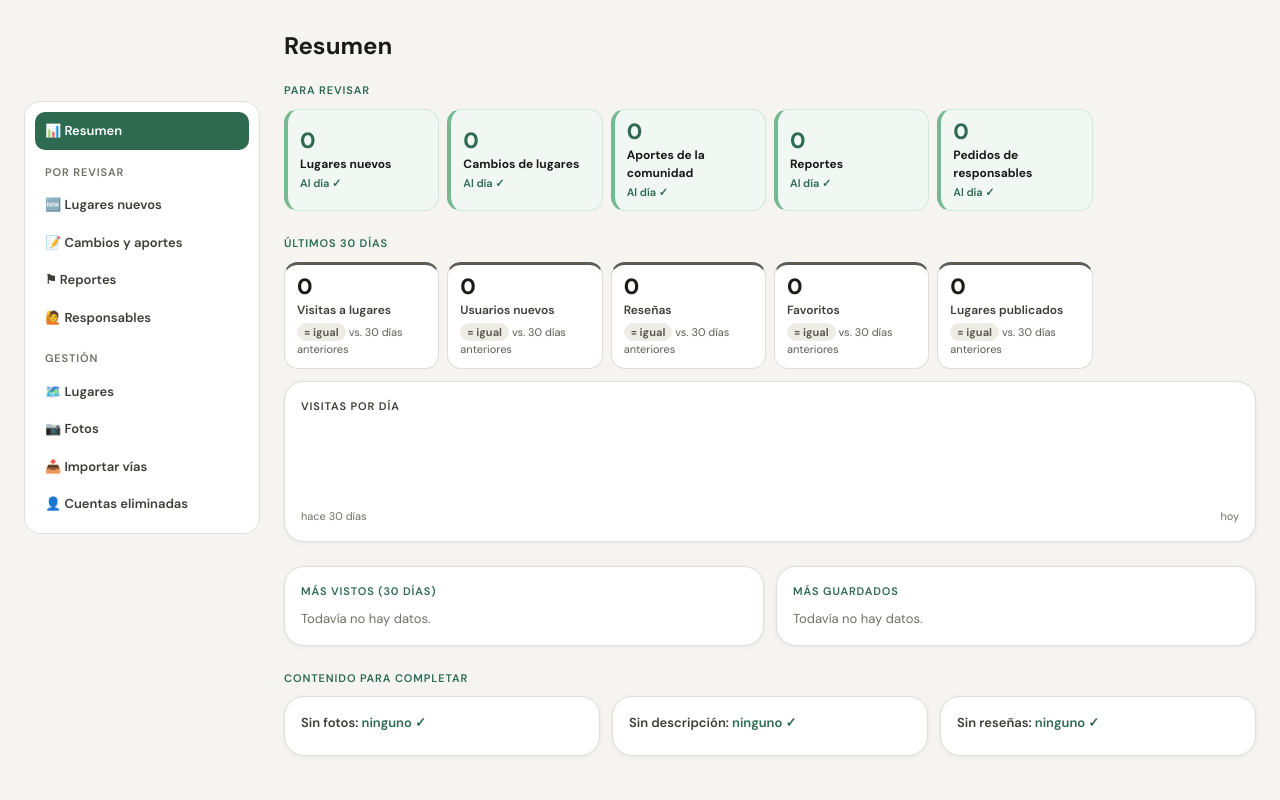
Test: Panel de admin: si una acción falla, se dice (antes la pantalla mostraba el cambio igual) › aprobar falla: aviso y el lugar sigue pendiente
Click the button "🆕 Lugares nuevos": (142, 205) x1=35 y1=186 x2=249 y2=224
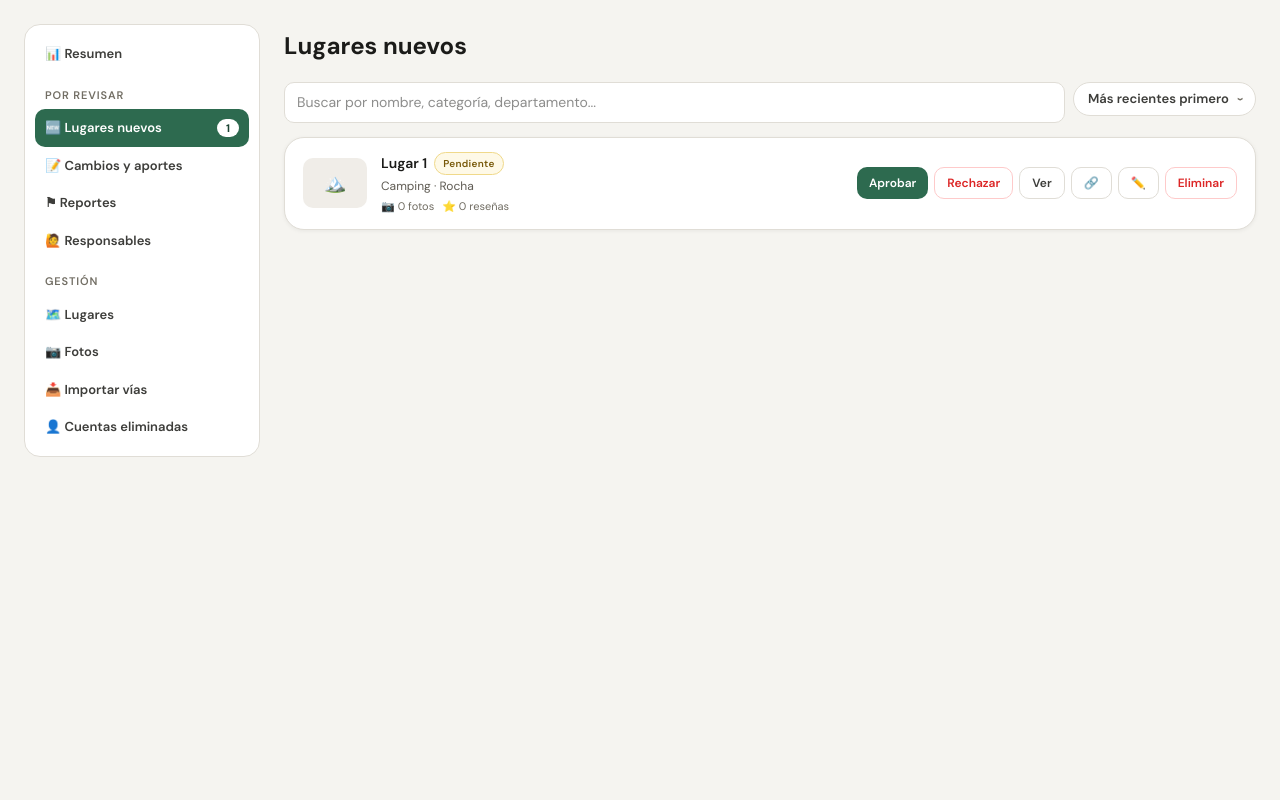
Click the button "Aprobar": (893, 183) x1=857 y1=167 x2=928 y2=199
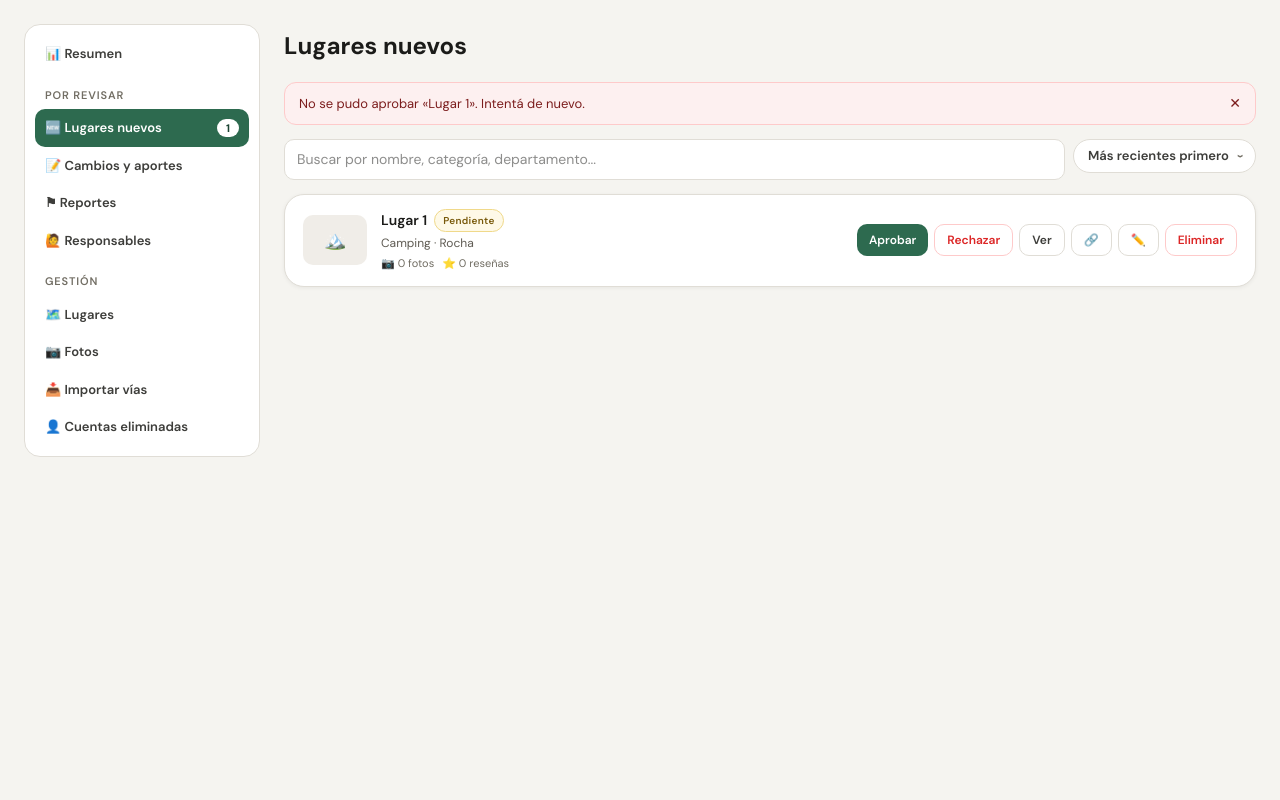
Expected: the text "Pendiente" is shown, x1=434 y1=209 x2=504 y2=232
Expected: the message shows "No se pudo aprobar «Lugar 1»", x1=299 y1=95 x2=585 y2=112
